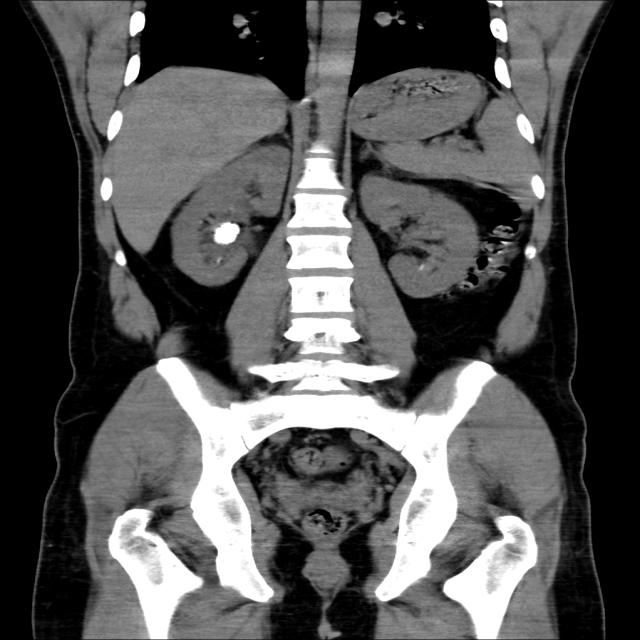kidneystone: (214, 222, 240, 244)
